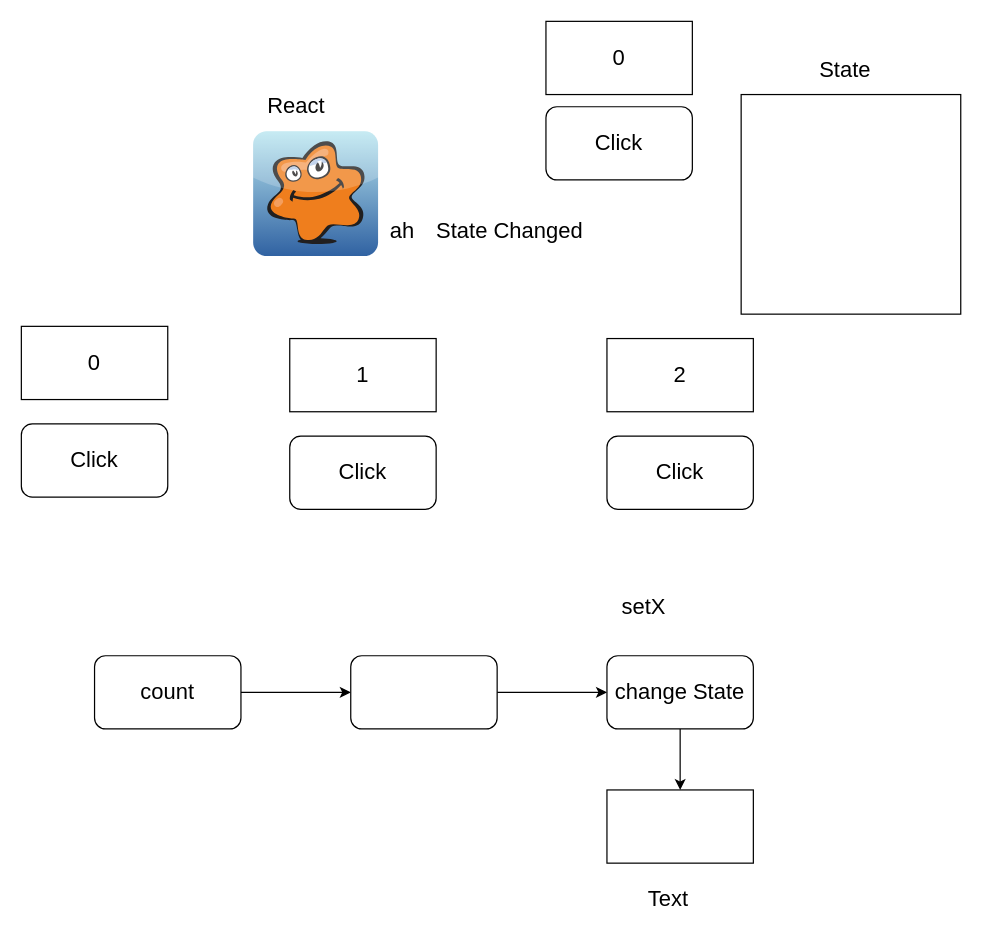
This 982x946 diagram has some shape labels left out. The shapes that lost their labels are listed below. From the top down, each one's centre as x and y in pixels, then its label:
At (x=850, y=203): "x = 2".
At (x=423, y=692): "event handle".
At (x=679, y=826): "rerender".
